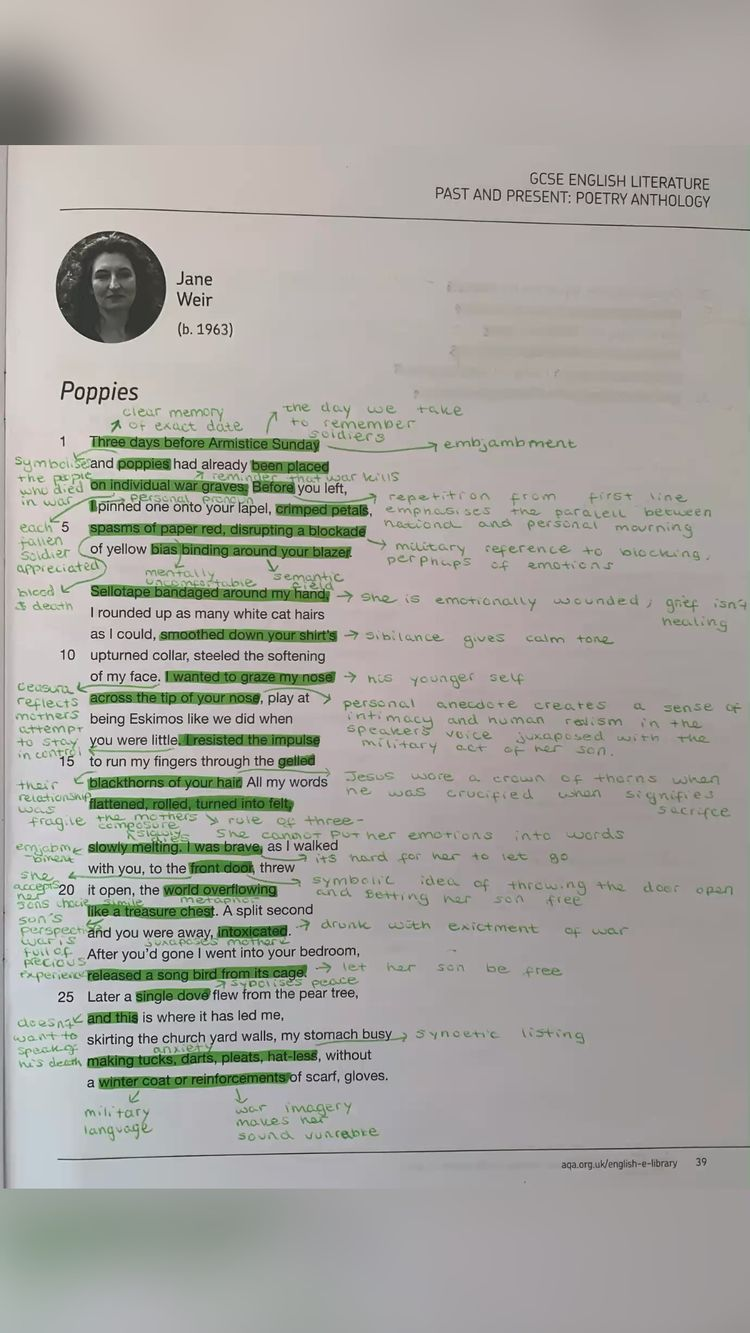page: (3, 148, 747, 1183)
